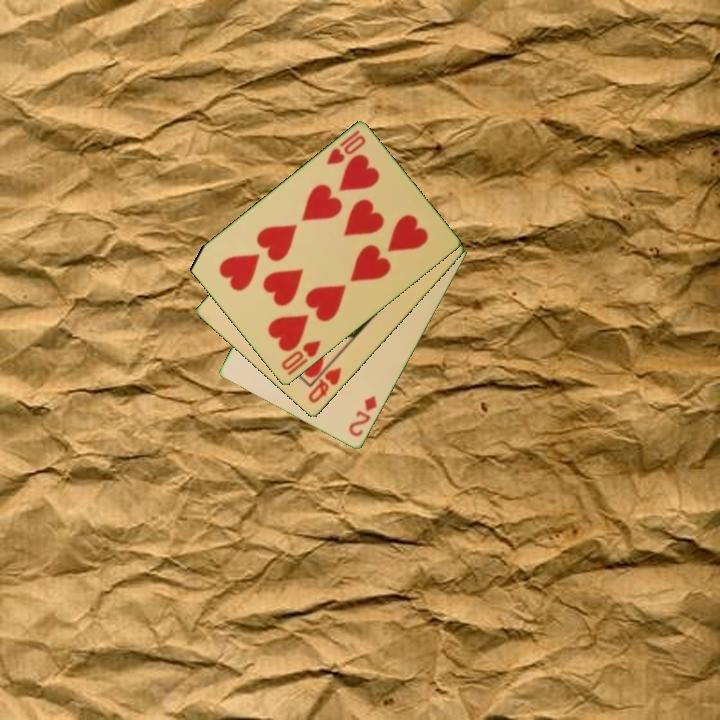10h: (278, 337, 324, 379), (323, 127, 369, 169)
2d: (345, 392, 380, 440)
Qh: (305, 364, 345, 406)
